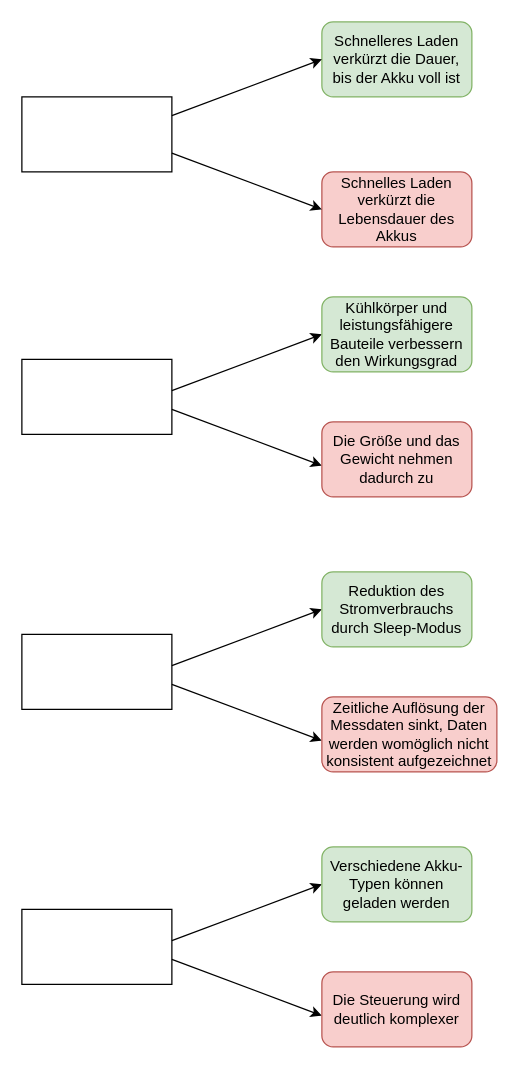
This 519x1069 diagram has some shape labels left out. The shapes that lost their labels are listed below. From the top down, each one's centre as x and y in pixels, then its label:
At point (96, 134): "Schnellladung vs Akkulebensdauer".
At point (96, 396): "Effizienz vs Baugröße".
At point (96, 671): "Energieeinsparung vs Datenüberwachung".
At point (96, 946): "Kompatibilität vs Komplexität".
